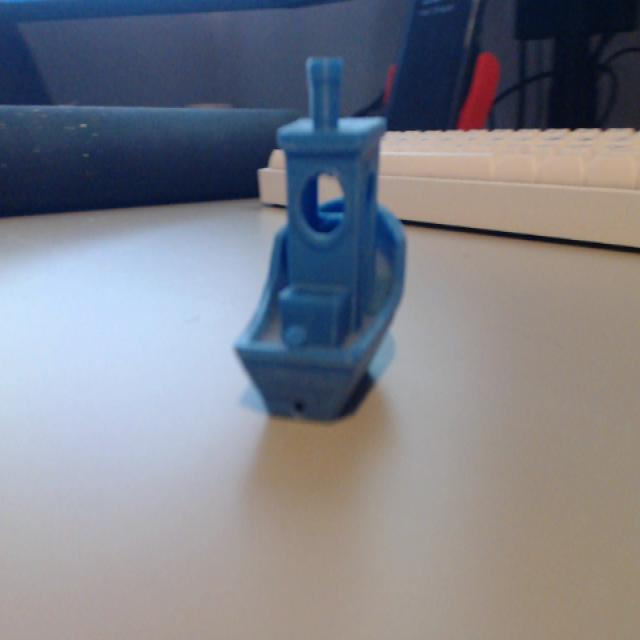benchy: (231, 52, 409, 424)
